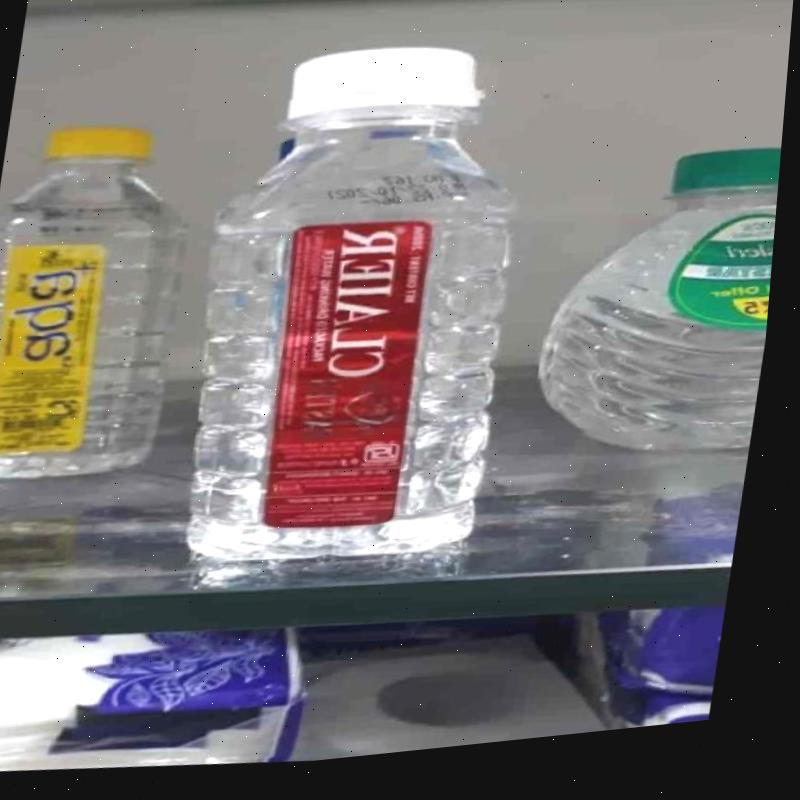botella: (182, 30, 556, 594), (533, 149, 786, 481), (0, 111, 214, 496)
